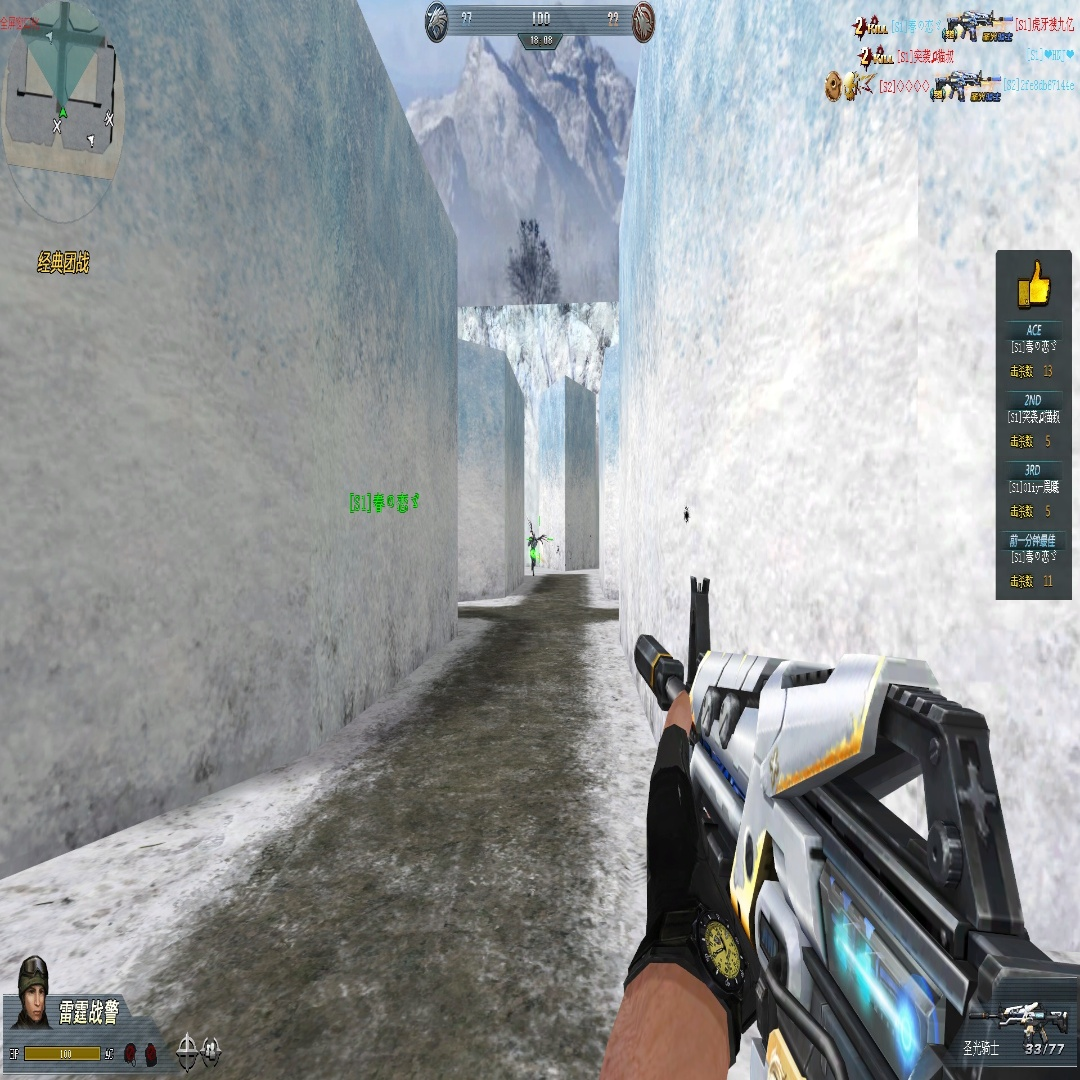head: (532, 533, 536, 539)
t: (528, 532, 543, 572)
